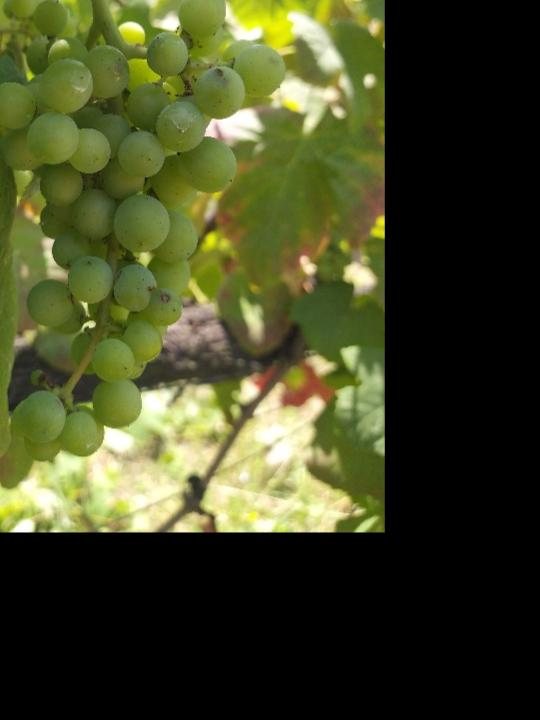grape: (0, 0, 294, 465)
